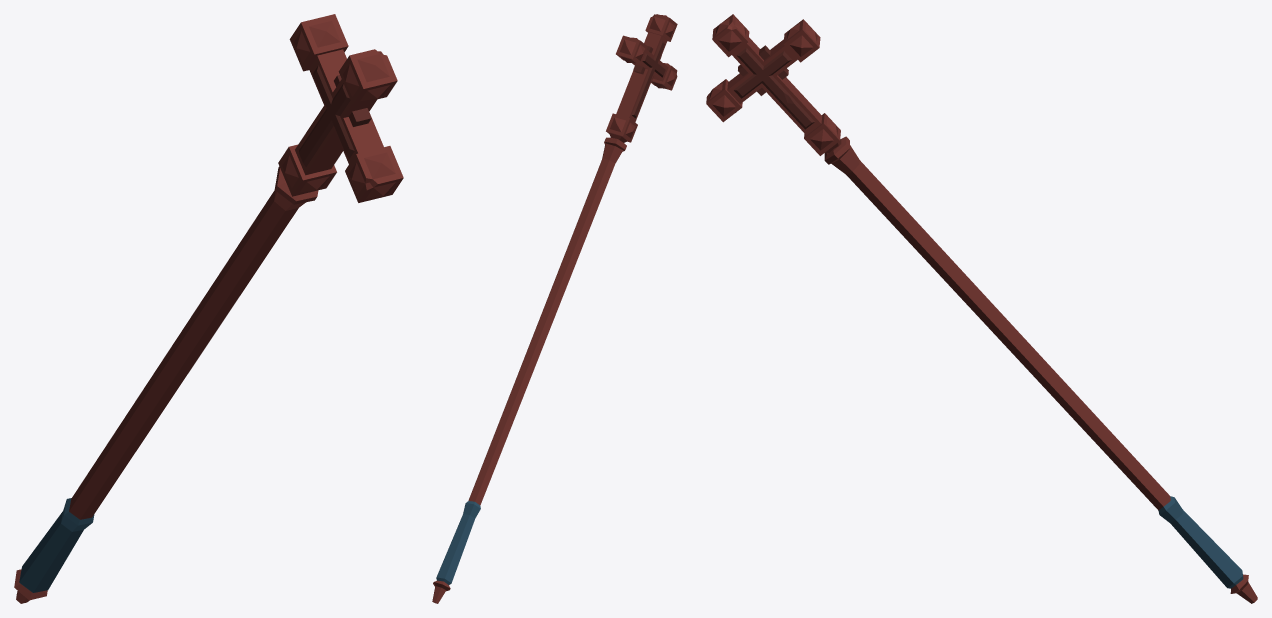
The model's file is fk-staff-15.glb.
3 renders of one model, left to right at view 1: azimuth 30°, elevation 25°; view 2: azimuth 150°, elevation 25°; view 3: azimuth 270°, elevation 25°, orthographic. The views are drawn at different scales.
Visible parts, largest first — view 1: fk-staff-15; view 2: fk-staff-15; view 3: fk-staff-15.
Part boxes in pixels (x1,y1,x2,y2): fk-staff-15: (14, 14, 403, 603); fk-staff-15: (432, 14, 677, 603); fk-staff-15: (706, 14, 1257, 603).
Bounding box in the file's own units: 0.1163 × 1.18 × 1.04.
1 material, 1 textured.
